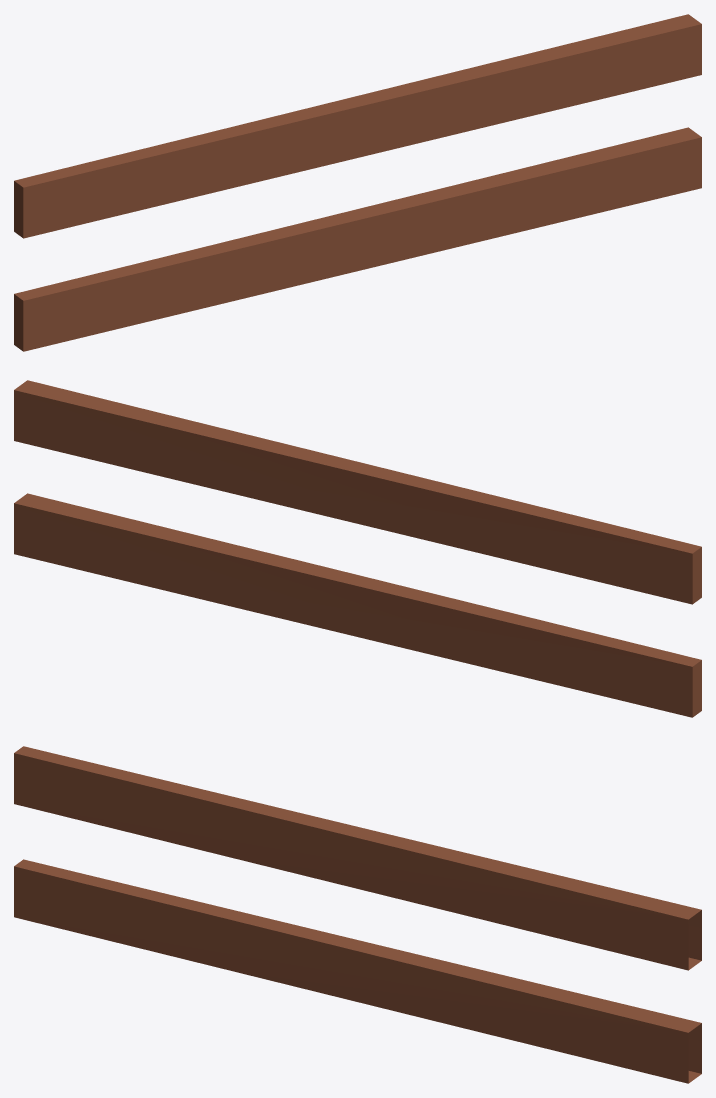
The model's file is fence.simple.open.glb.
3 views of the same model, one above another, from view 1: azimuth 30°, elevation 25°; view 2: azimuth 150°, elevation 25°; view 3: azimuth 330°, elevation 25° (orthographic).
Visible parts, largest first — view 1: fence.simple.open; view 2: fence.simple.open; view 3: fence.simple.open.
Boxes of the visible parts, left/top/right/bottom form: fence.simple.open: left=14, top=14, right=701, bottom=351; fence.simple.open: left=14, top=380, right=701, bottom=717; fence.simple.open: left=14, top=746, right=701, bottom=1083.
Size of the model in its own units: 2.91 by 0.6737 by 0.1003.
